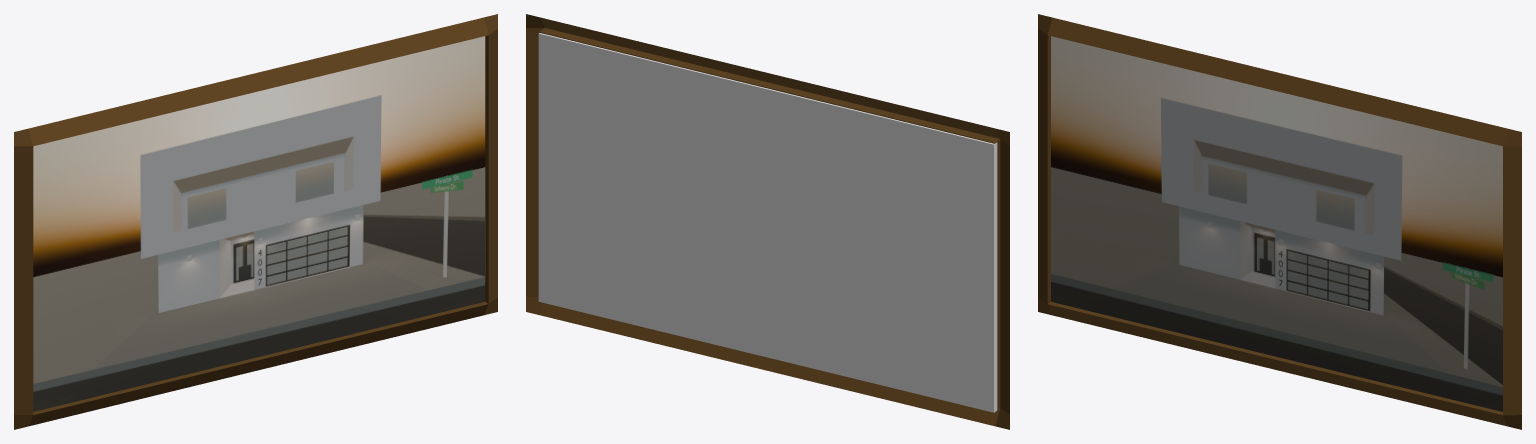
File: Painting.glb
3 views of the same model, side by side, from view 1: azimuth 30°, elevation 25°; view 2: azimuth 150°, elevation 25°; view 3: azimuth 330°, elevation 25° (orthographic).
Parts seen in each view (by area): view 1: Cube, Plane; view 2: Cube, Plane; view 3: Cube, Plane.
Part boxes in pixels (left/top/right/bottom): Cube: left=33, top=36, right=485, bottom=411; Plane: left=14, top=14, right=497, bottom=429; Cube: left=538, top=33, right=997, bottom=412; Plane: left=526, top=14, right=1009, bottom=429; Cube: left=1051, top=36, right=1502, bottom=411; Plane: left=1038, top=14, right=1521, bottom=429.
Size of the model in its own units: 34 by 20 by 0.8.
Materials: 3 (1 with a texture image).
